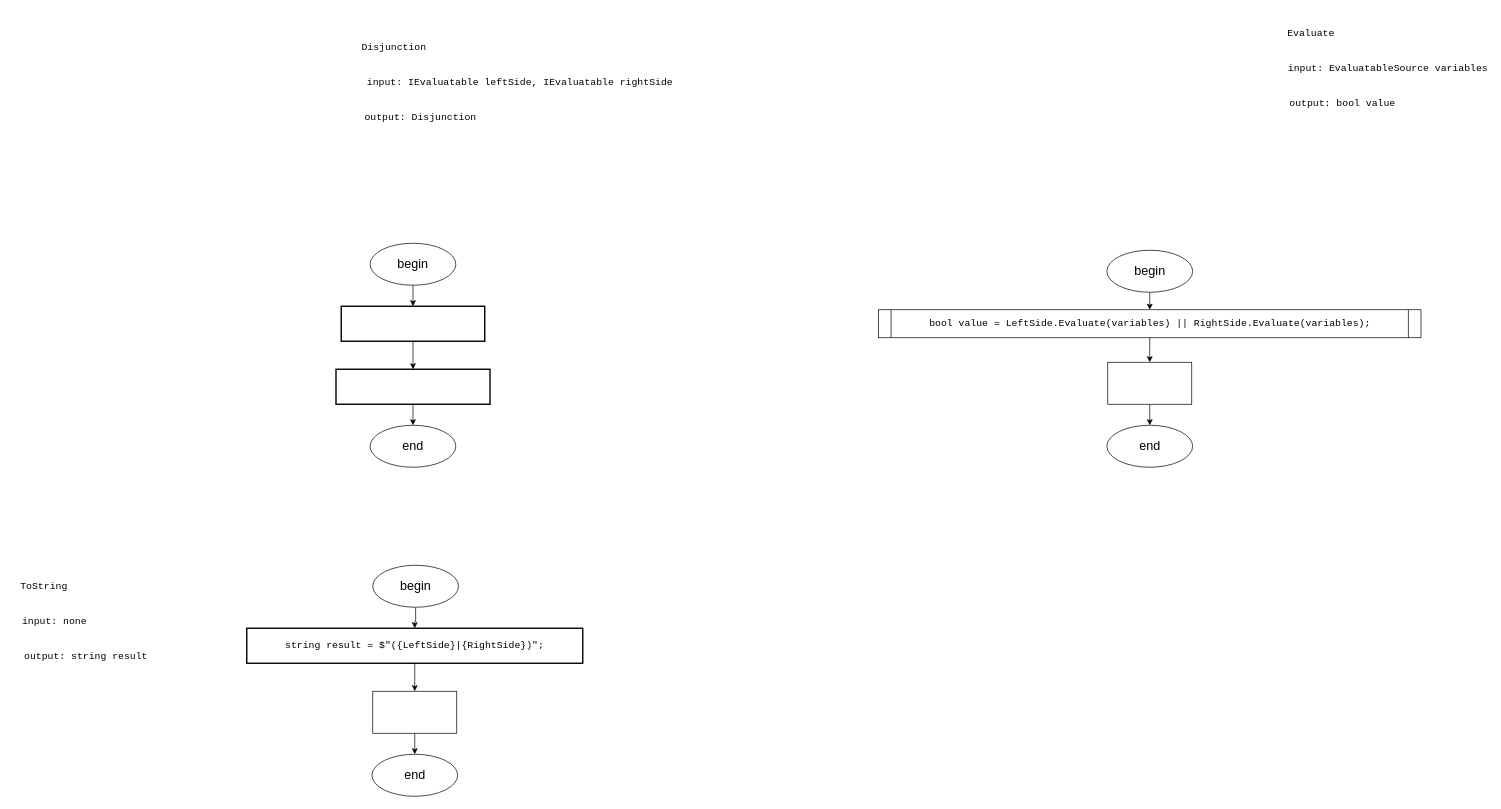
Image size: 1501x809. Some labels were removed from this diagram. The centre of each missing label's shape, as x and y in pixels:
LeftSide = leftSide ;: the point at 412,323
return result ;: the point at 414,712
return value ;: the point at 1149,383
RightSide = rightSide ;: the point at 412,386
